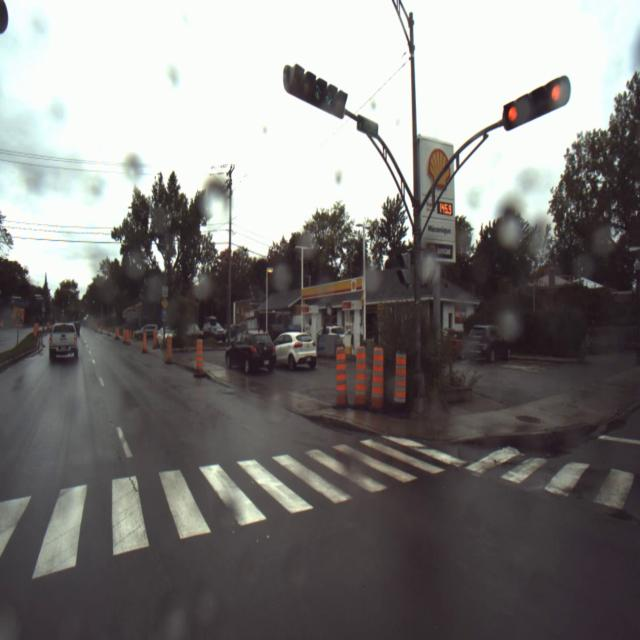car: (225, 336, 276, 376), (464, 324, 512, 364), (275, 332, 317, 369), (48, 322, 79, 363), (134, 324, 158, 341)
trafficLight-Green: (284, 64, 346, 119)
trafficLight-Red: (502, 77, 568, 129)
